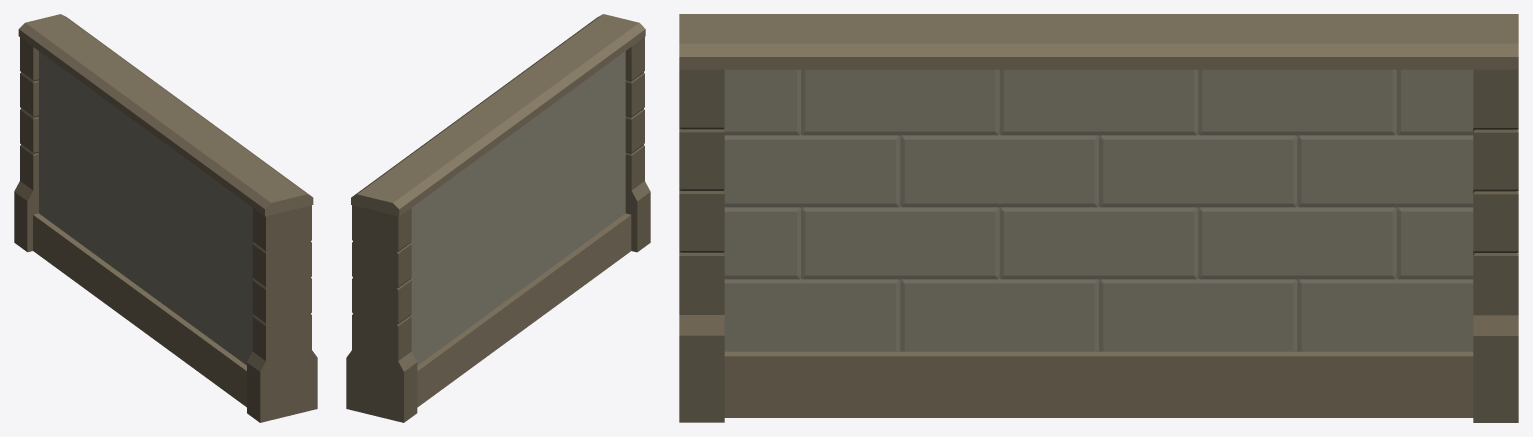
File: Wall_2.fbx
3 renders of one model, left to right at view 1: azimuth 30°, elevation 25°; view 2: azimuth 150°, elevation 25°; view 3: azimuth 270°, elevation 25°, orthographic. The views are drawn at different scales.
Parts seen in each view (by area): view 1: Wall_2; view 2: Wall_2; view 3: Wall_2.
Boxes of the visible parts, x1=… form: Wall_2: x1=14, y1=14, x2=317, y2=422; Wall_2: x1=346, y1=14, x2=650, y2=422; Wall_2: x1=679, y1=14, x2=1518, y2=422.
Size of the model in its own units: 50.29 by 180 by 370.
